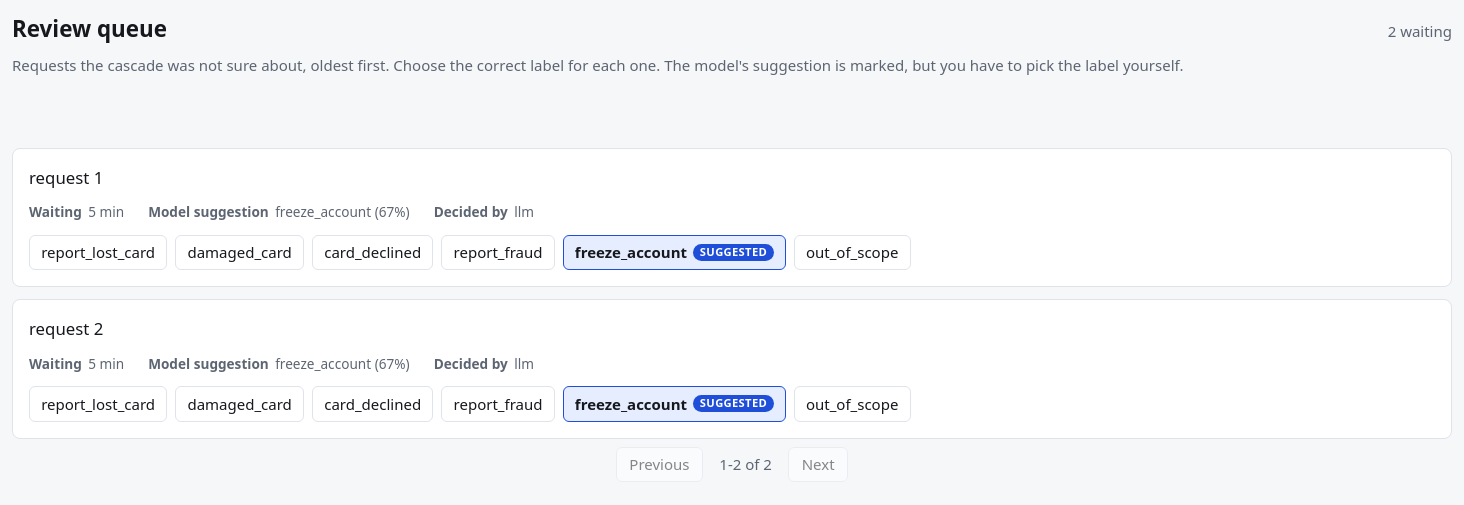
when a decision fails › keeps the request, unlocks its buttons and asks to try again on a server error
Expected: the list item "request 1" is shown, [12,148,1452,287]
Click the 1st button "report_fraud". click: (498, 253)
box: [441,235,555,270]
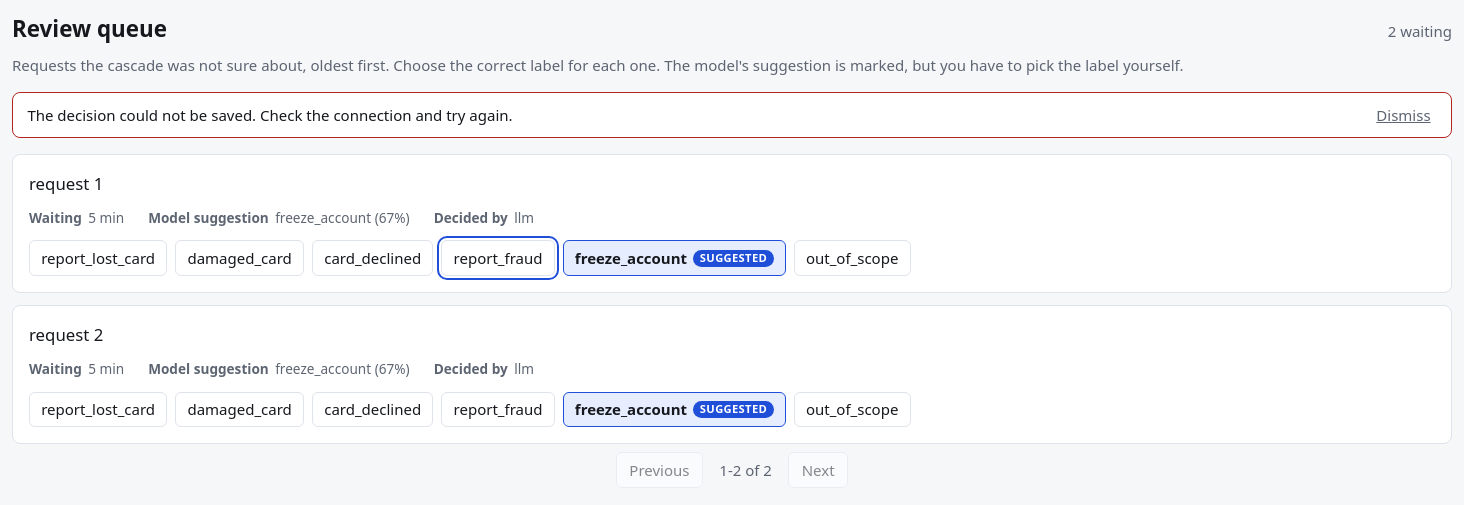
Expected: the list item "request 1" is shown, [12,154,1452,293]
Expected: the text "could not be saved" is shown, [27,105,513,125]
